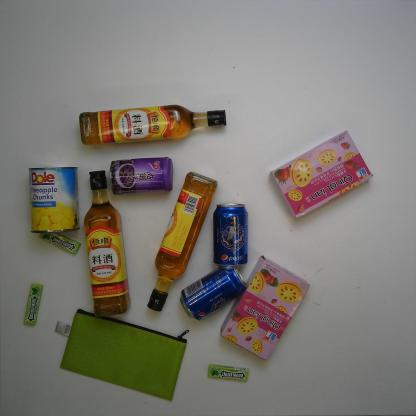Canned Food: (28, 166, 81, 234), (110, 156, 174, 196)
Dessert: (220, 256, 310, 362), (268, 130, 374, 219)
Drink: (179, 268, 247, 322), (213, 203, 248, 270)
Gum: (38, 232, 81, 254), (23, 283, 44, 326), (208, 364, 249, 382)
Seasoner: (146, 171, 218, 312), (83, 169, 131, 318), (78, 104, 226, 146)
Stationery: (54, 308, 190, 402)
